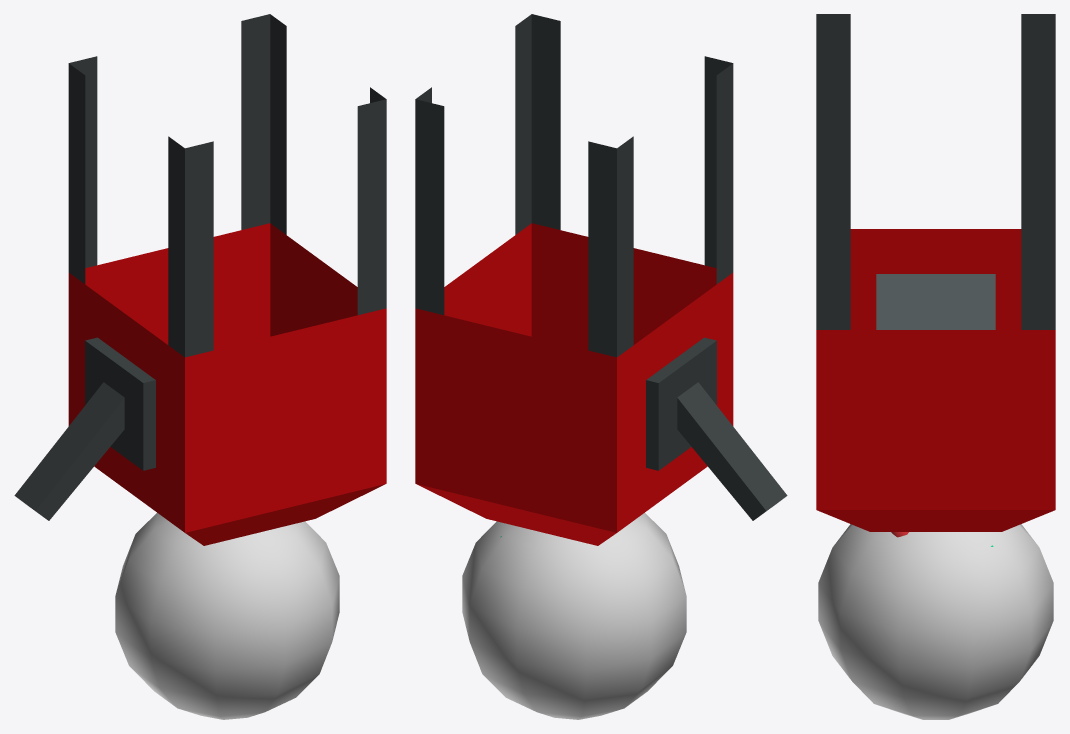
File: CandyMachine.fbx
The picture shows the model from 3 angles, left to right: view 1: azimuth 30°, elevation 25°; view 2: azimuth 150°, elevation 25°; view 3: azimuth 270°, elevation 25°; orthographic projection. The views are drawn at different scales.
Visible parts, largest first — view 1: Base, Head; view 2: Base, Head; view 3: Base, Head.
Part boxes in pixels (x1,y1,x2,y2): Base: (14,14,386,545); Head: (115,513,339,719); Base: (415,14,787,545); Head: (462,513,686,719); Base: (816,14,1055,531); Head: (818,524,1053,719).
Bounding box in the file's own units: 3.01 × 5.96 × 2.
